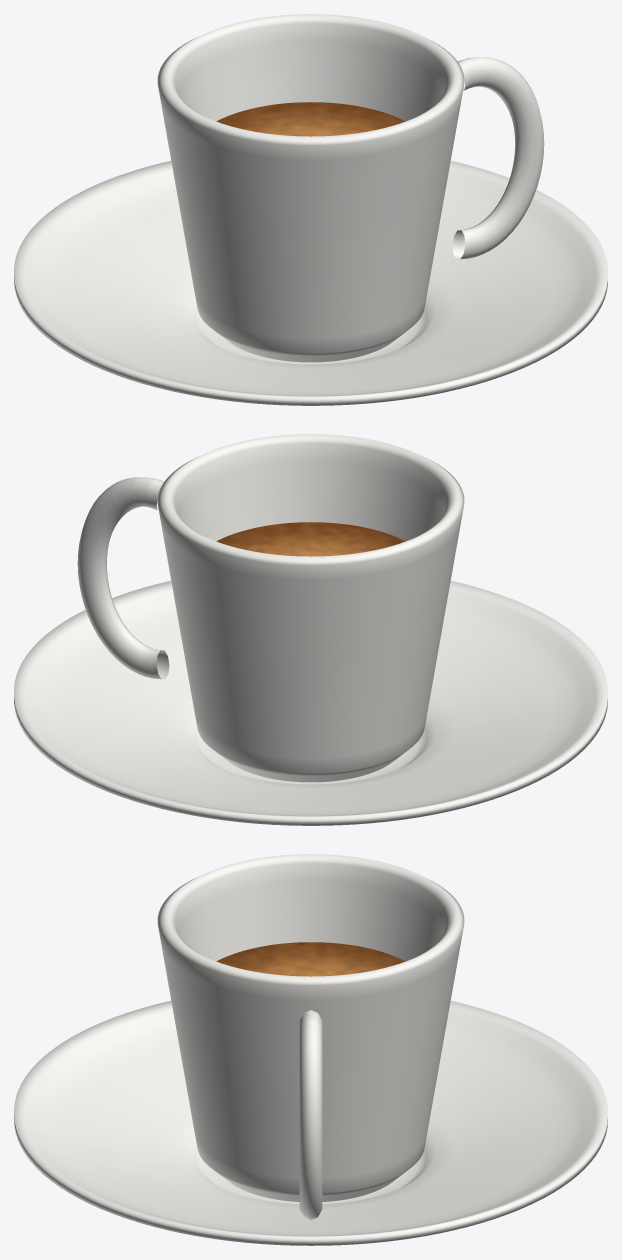
Rendered from espresso.glb.
3 views of the same model, one above another, from view 1: azimuth 30°, elevation 25°; view 2: azimuth 150°, elevation 25°; view 3: azimuth 270°, elevation 25° (orthographic).
Visible parts, largest first — view 1: ceramic, satin; view 2: ceramic, satin; view 3: ceramic, satin.
Part boxes in pixels (x1,y1,x2,y2): ceramic: [14, 14, 607, 405]; satin: [216, 102, 405, 136]; ceramic: [14, 434, 607, 825]; satin: [216, 522, 405, 556]; ceramic: [14, 854, 607, 1245]; satin: [216, 942, 405, 976].
Bounding box in the file's own units: 0.12 × 0.0592 × 0.12.
2 materials, 2 textured.
